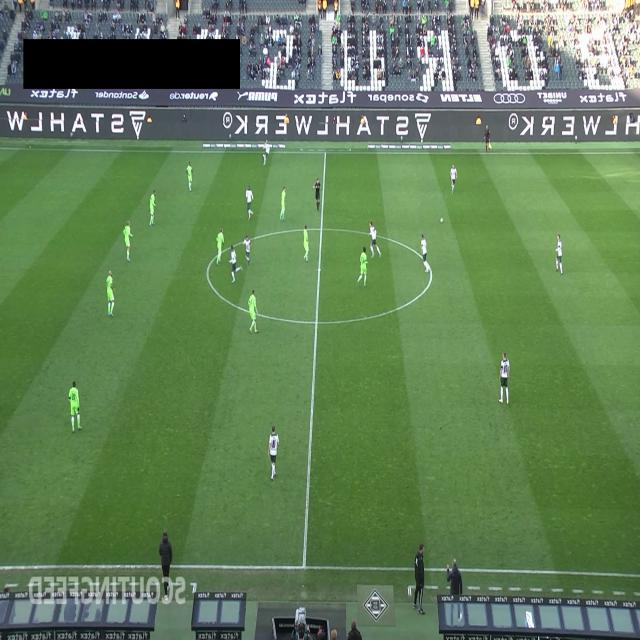ball: (440, 216, 444, 224)
player: (267, 424, 280, 481), (68, 380, 82, 432), (498, 351, 510, 405), (368, 220, 382, 260), (248, 289, 259, 334), (356, 246, 368, 287), (106, 269, 115, 318), (124, 220, 134, 262), (420, 234, 429, 272), (555, 233, 563, 274), (228, 244, 236, 283), (242, 235, 252, 266), (216, 227, 224, 265), (148, 190, 156, 227), (246, 184, 254, 220), (303, 224, 309, 262), (186, 160, 193, 192), (450, 163, 457, 194), (262, 139, 270, 166), (280, 186, 286, 221)
referee: (312, 177, 321, 212), (484, 124, 492, 152)
